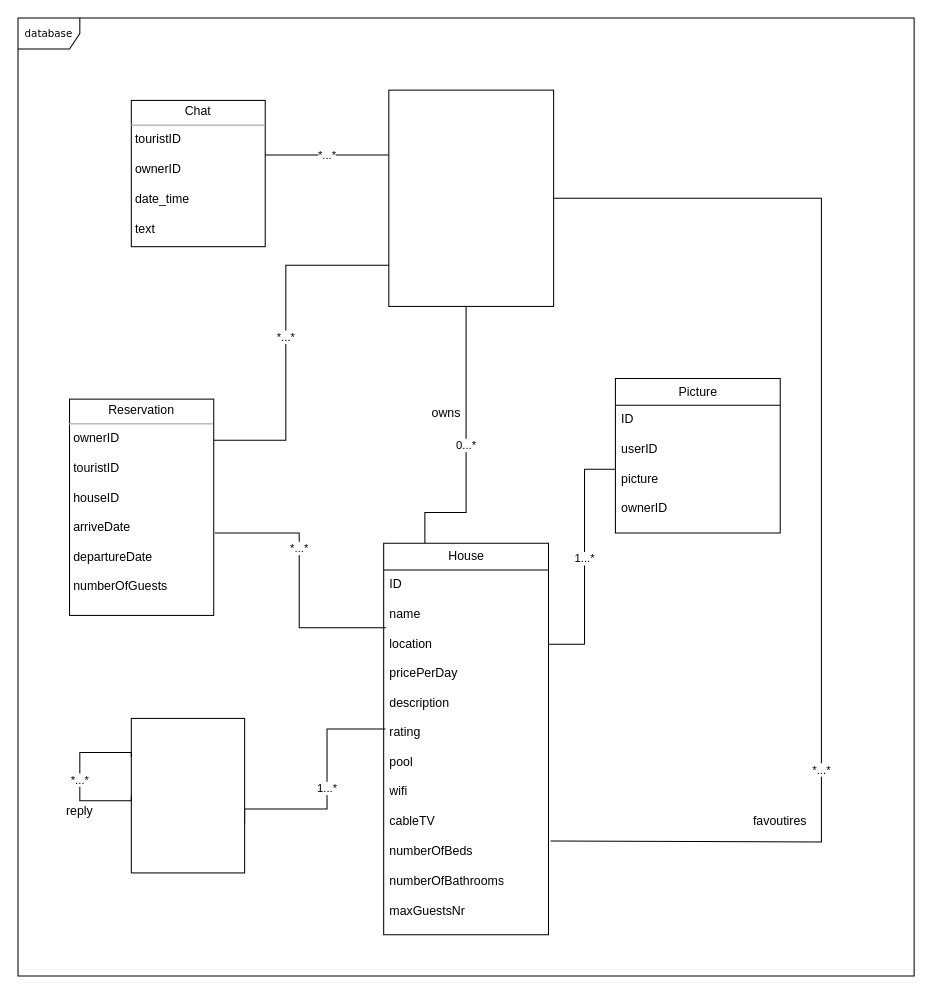
This 932x994 diagram has some shape labels left out. The shapes that lost their labels are listed below. From the top down, each one's centre as x and y in pixels, then its label:
At point 471,197: "Users ID name password birthday email picture".
At point 187,795: "Comments ID houseID userID text".
